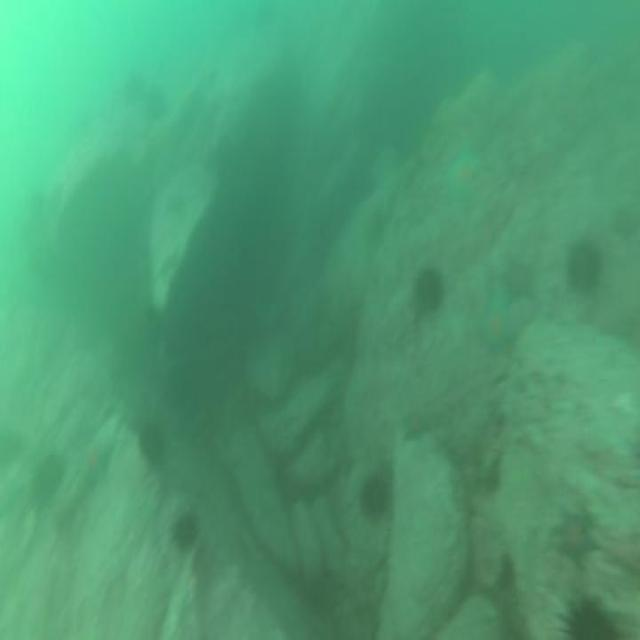echinus: (552, 591, 623, 640), (563, 230, 607, 306), (28, 446, 68, 516), (355, 468, 390, 526), (167, 504, 205, 556), (135, 419, 169, 477), (410, 264, 446, 318)
starfish: (550, 502, 601, 574), (478, 296, 518, 360), (497, 248, 538, 310), (447, 147, 485, 209), (76, 436, 116, 487), (399, 405, 429, 447)
